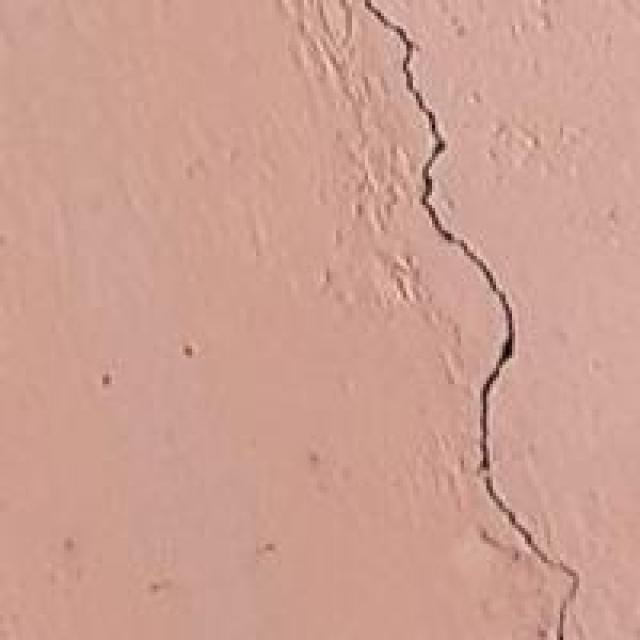Crack: (323, 0, 637, 637)
